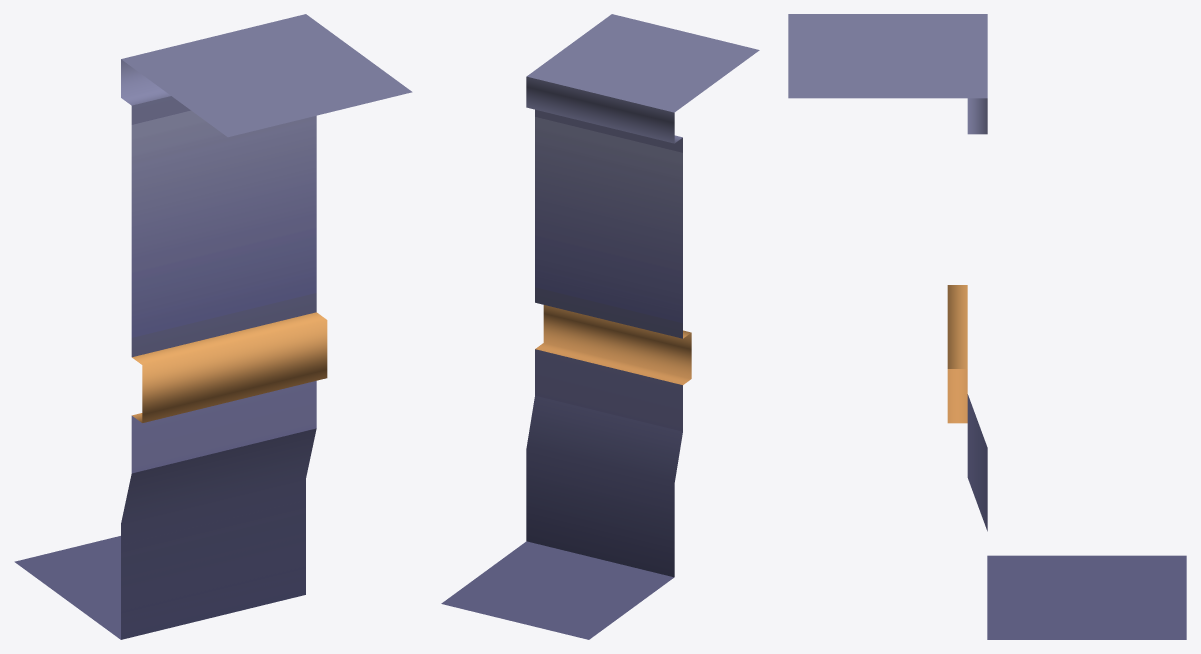
Rendered from structure-wall.glb.
3 renders of one model, left to right at view 1: azimuth 30°, elevation 25°; view 2: azimuth 150°, elevation 25°; view 3: azimuth 270°, elevation 25°, orthographic. The views are drawn at different scales.
Visible parts, largest first — view 1: structure-wall; view 2: structure-wall; view 3: structure-wall.
Boxes of the visible parts, x1,y1,x2,y2 form: structure-wall: [14, 14, 412, 639]; structure-wall: [441, 14, 759, 639]; structure-wall: [788, 14, 1186, 639].
Bounding box in the file's own units: 0.9999 × 3 × 2.
1 material, 1 textured.
